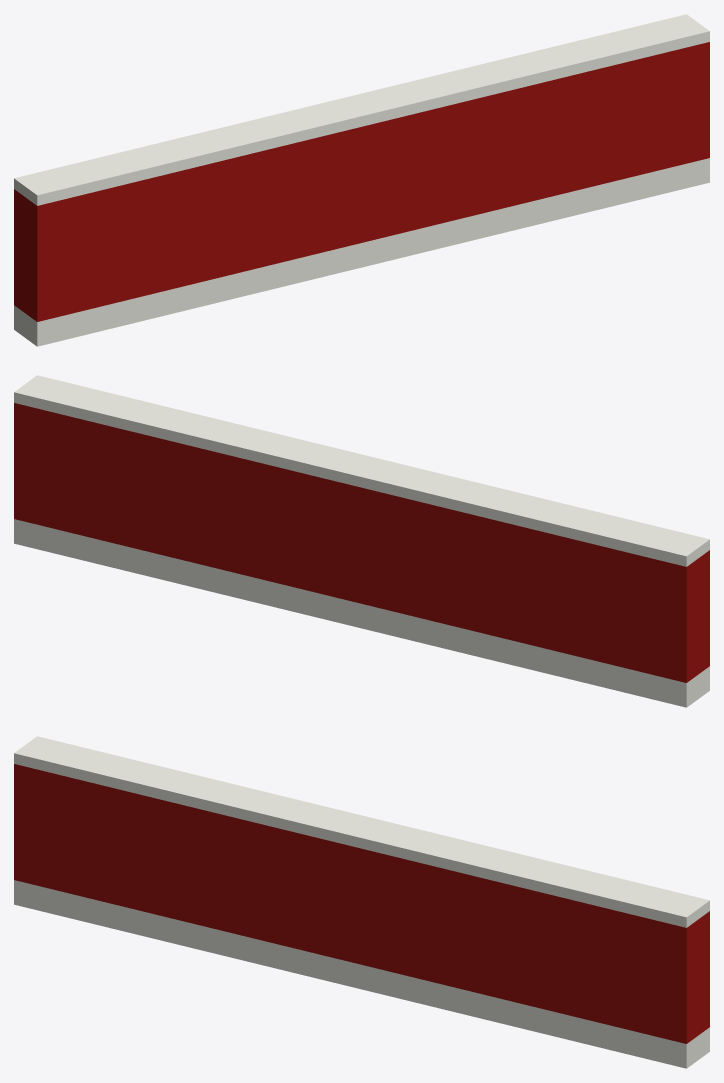
Rendered from MPS_Fascia_2m.fbx.
The picture shows the model from 3 angles, top to bottom: view 1: azimuth 30°, elevation 25°; view 2: azimuth 150°, elevation 25°; view 3: azimuth 330°, elevation 25°; orthographic projection.
Visible parts, largest first — view 1: Body; view 2: Body; view 3: Body.
Part boxes in pixels (x1=…): Body: x1=14, y1=14, x2=709, y2=346; Body: x1=14, y1=375, x2=709, y2=707; Body: x1=14, y1=736, x2=709, y2=1068.
Bounding box in the file's own units: 2 × 0.43 × 0.12.
